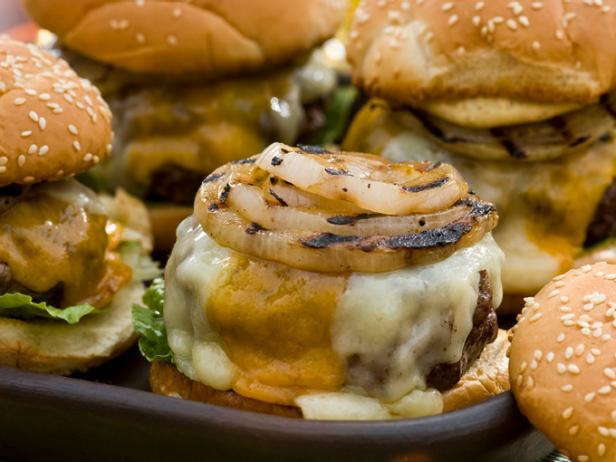hamburger: (161, 134, 502, 425), (341, 11, 614, 246), (29, 10, 333, 198), (1, 70, 156, 369)
